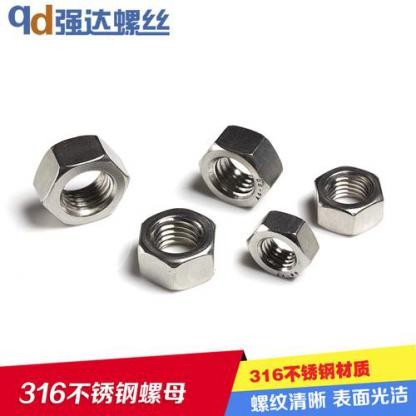FOD: (31, 132, 130, 232), (195, 123, 283, 211), (134, 204, 219, 294), (245, 209, 321, 284), (312, 164, 384, 238)
